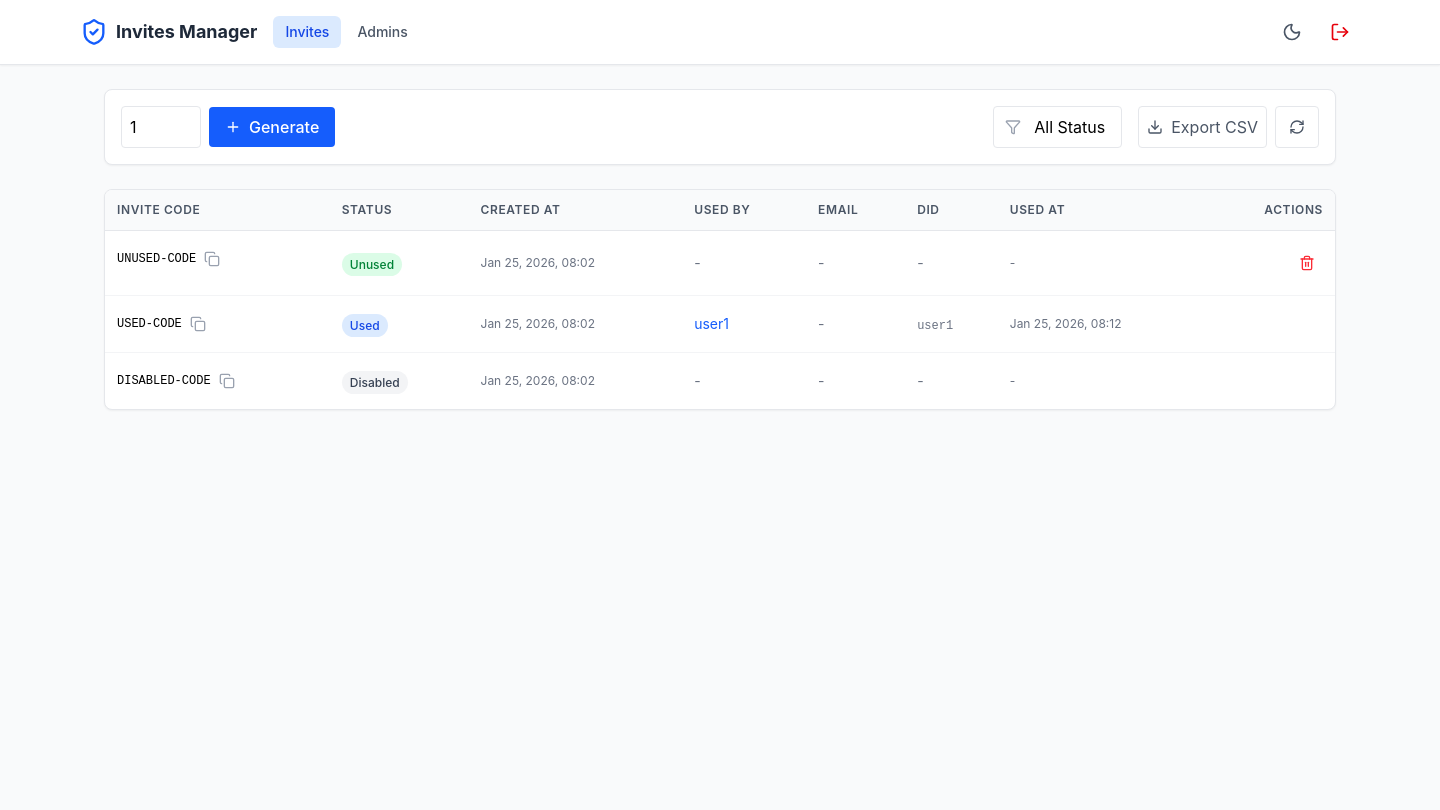
it: App › clears the session when the logout button is clicked
This screenshot has width=1440, height=810.
Check: the text "UNUSED-CODE" is shown, box left=105, top=231, right=330, bottom=287
Click the button titled "Logout". click: click(1340, 32)
box: left=1320, top=12, right=1360, bottom=52
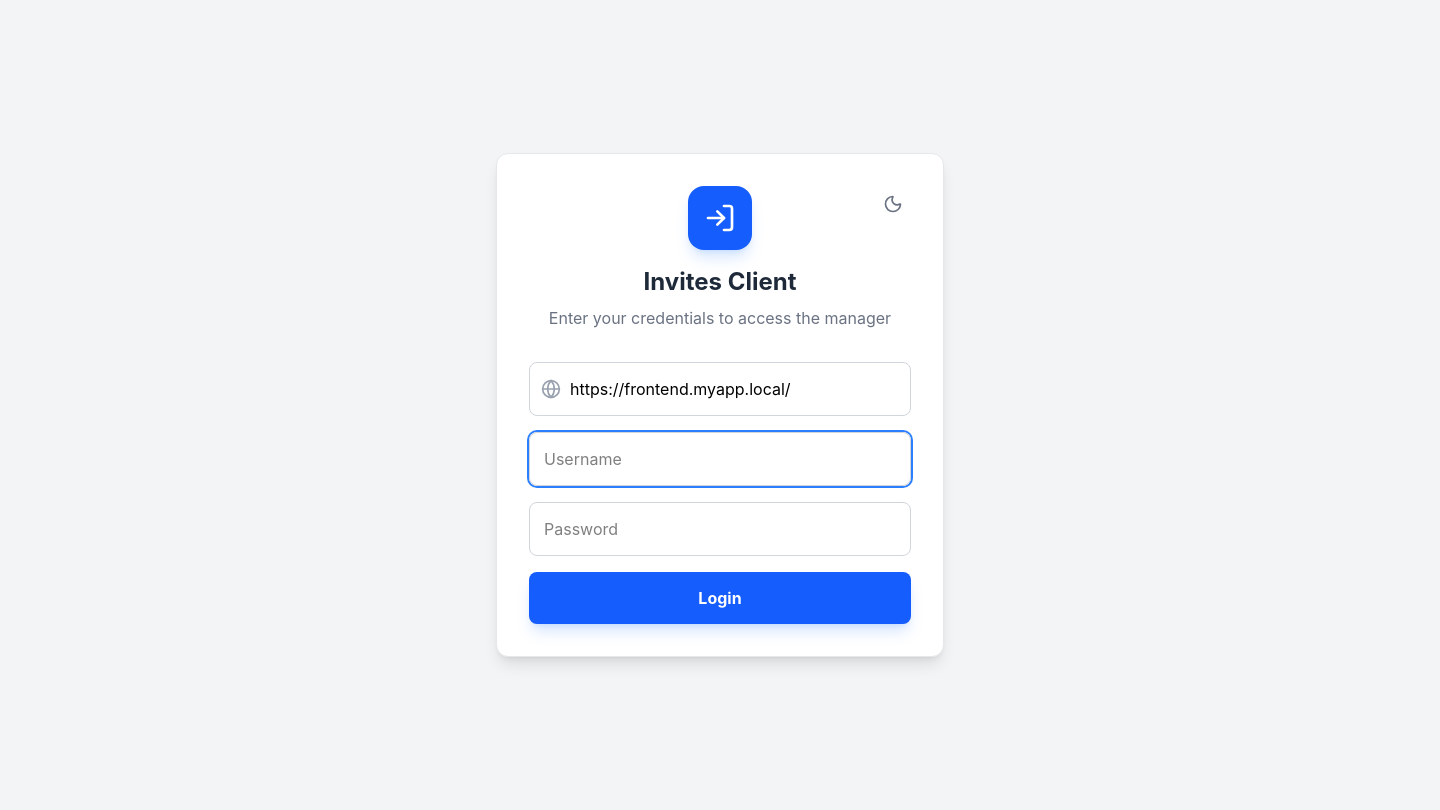
Check: the field with placeholder "Username" is shown, box left=529, top=432, right=911, bottom=486
